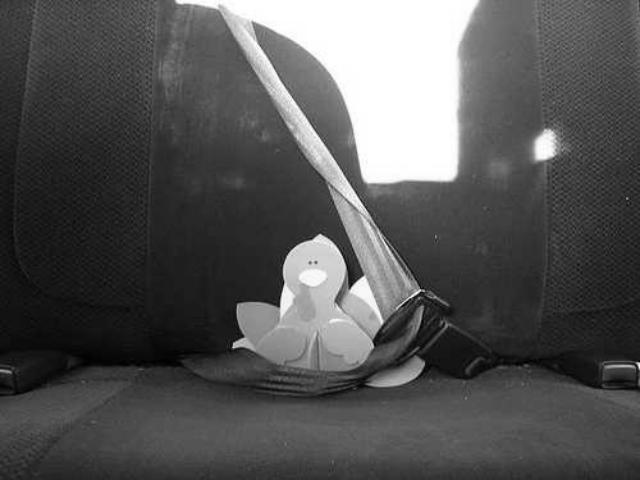Seatbelt: (177, 3, 467, 400)
